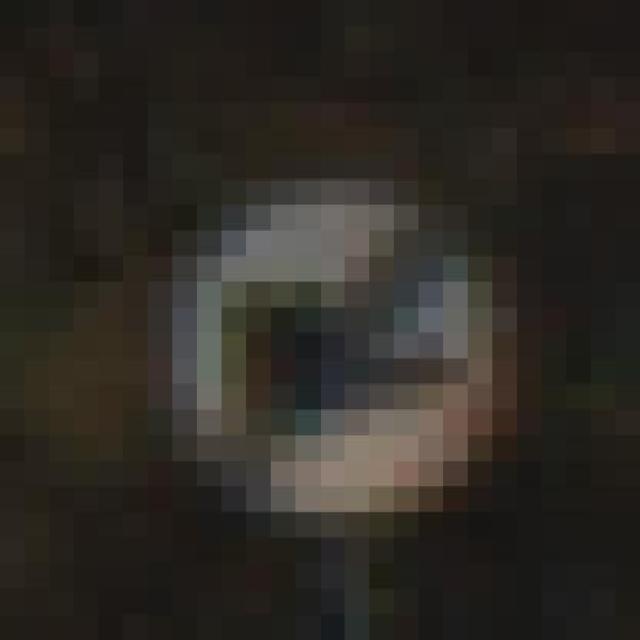Overtaking by trucks is prohibited: (123, 128, 542, 538)
